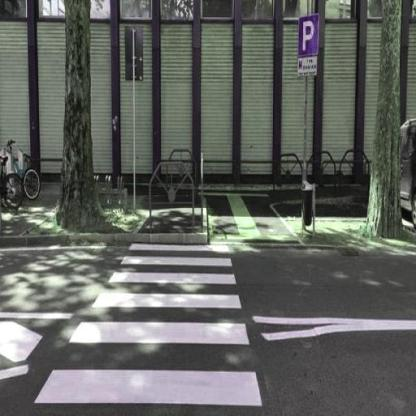crosswalk: (67, 284, 252, 352), (118, 240, 235, 270)
